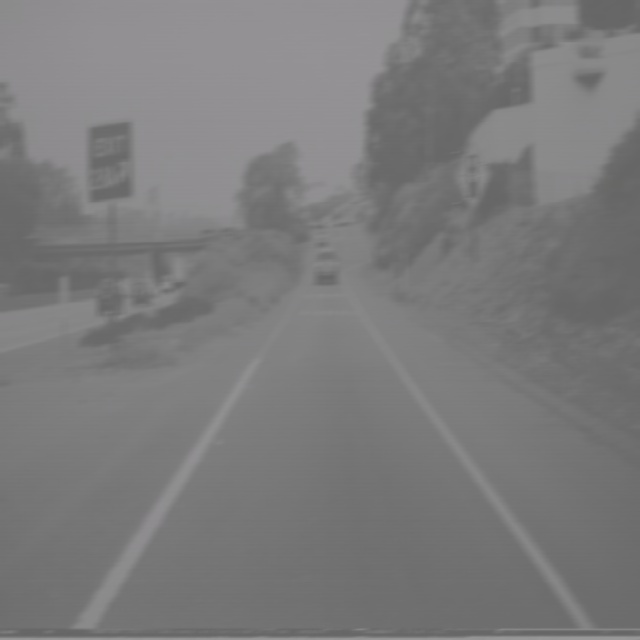signalAhead: (454, 138, 489, 211)
